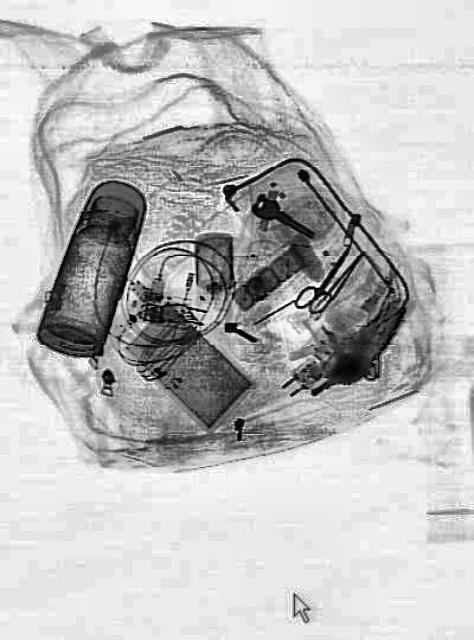Scissors: (288, 234, 360, 326)
